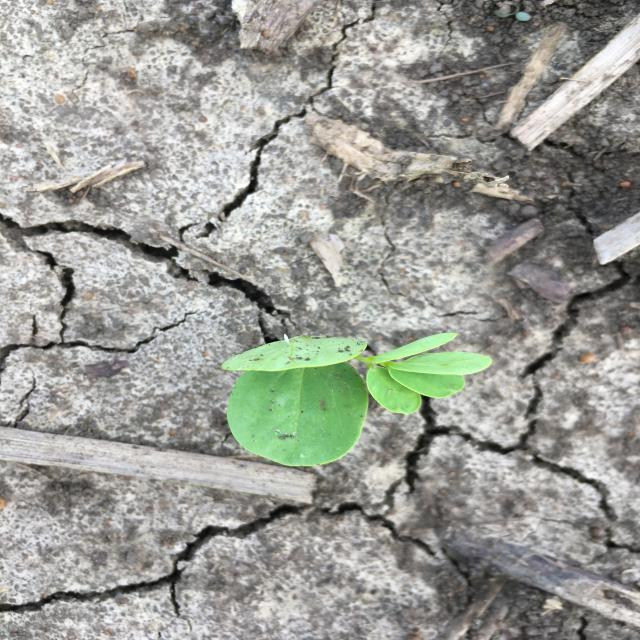Sicklepod: (218, 329, 494, 469)
